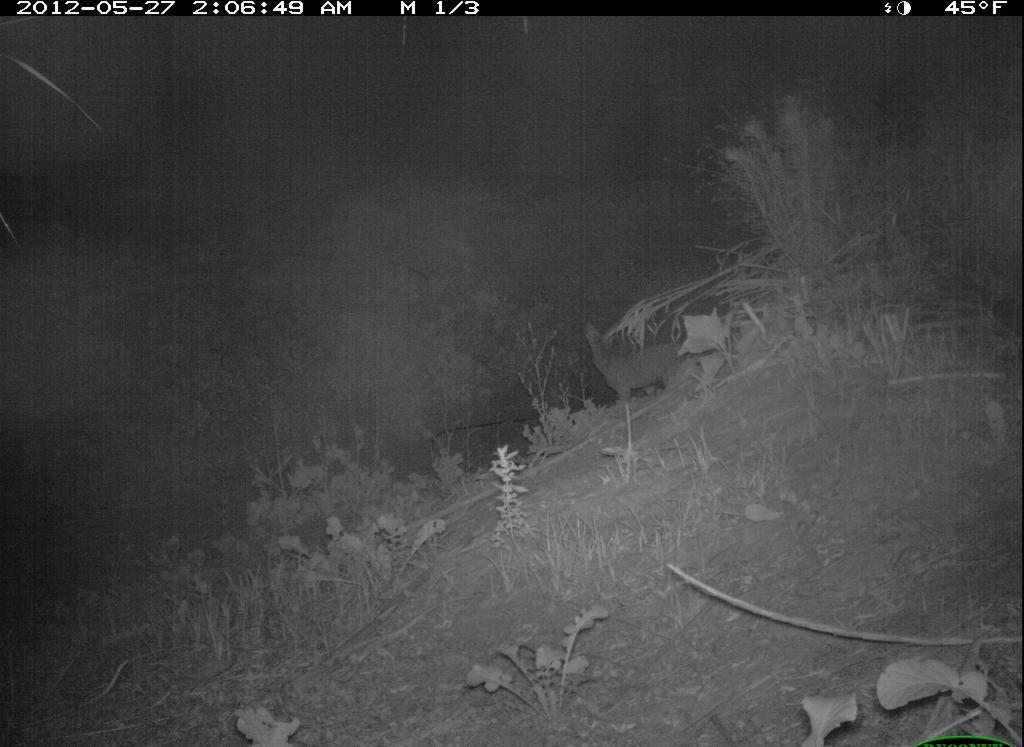coyote: (569, 305, 702, 405)
